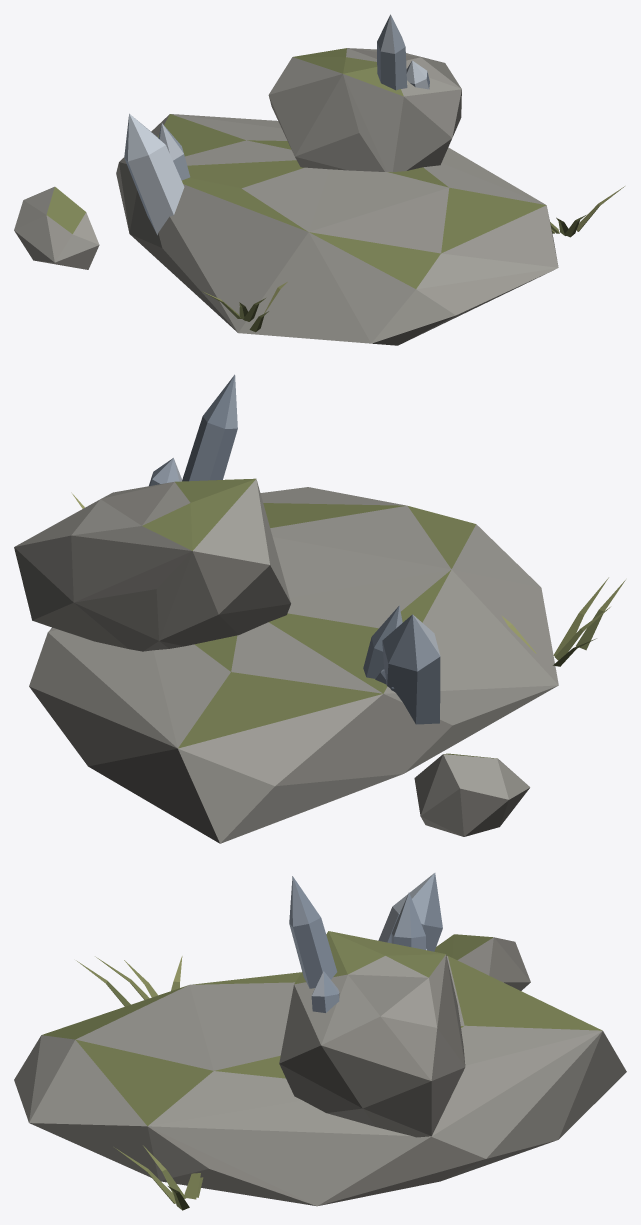
The model's file is rock_temperate_1.glb.
The picture shows the model from 3 angles, top to bottom: view 1: azimuth 30°, elevation 25°; view 2: azimuth 150°, elevation 25°; view 3: azimuth 270°, elevation 25°; orthographic projection. The views are drawn at different scales.
Parts seen in each view (by area): view 1: Body; view 2: Body; view 3: Body.
Part boxes in pixels (bbox=[...]): Body: bbox=[14, 14, 624, 345]; Body: bbox=[14, 374, 625, 843]; Body: bbox=[14, 873, 626, 1210].
Size of the model in its own units: 4.09 by 1.89 by 3.88.
